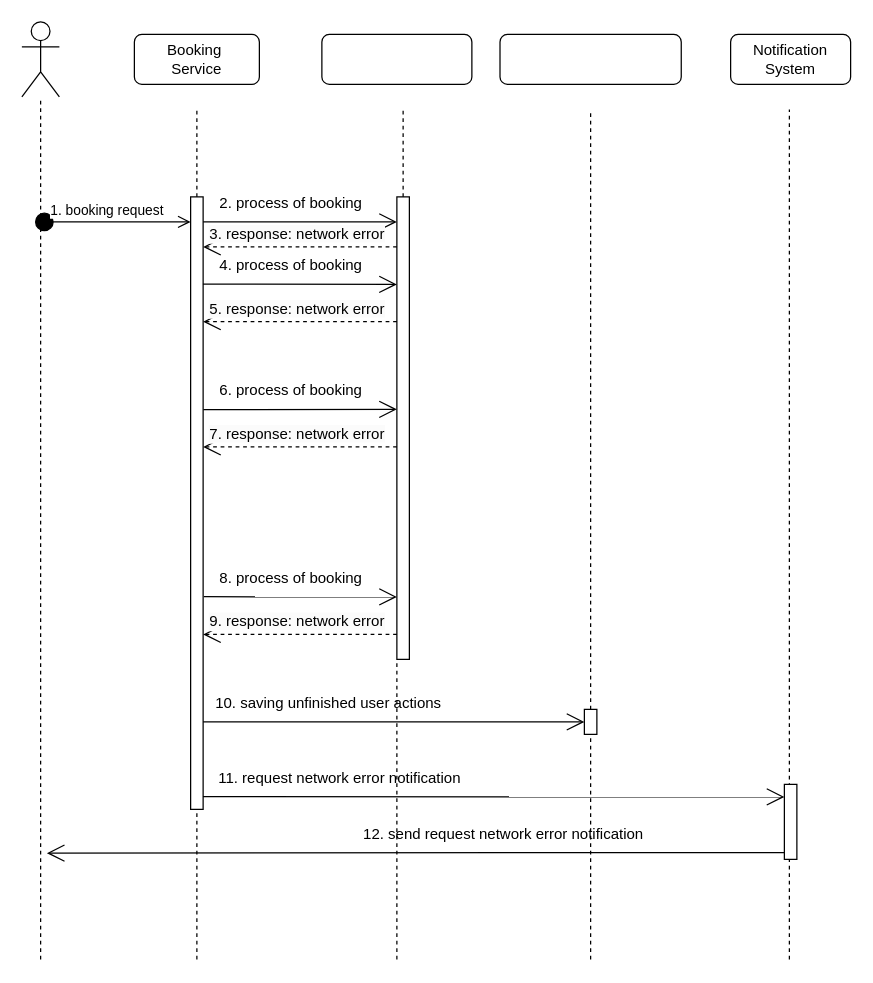
This 873x983 diagram has some shape labels left out. The centre of each missing label's shape, as x and y in pixels:
"Network monitoring System" belongs at point 396,58.
"Session Management System)" belongs at point 590,58.
